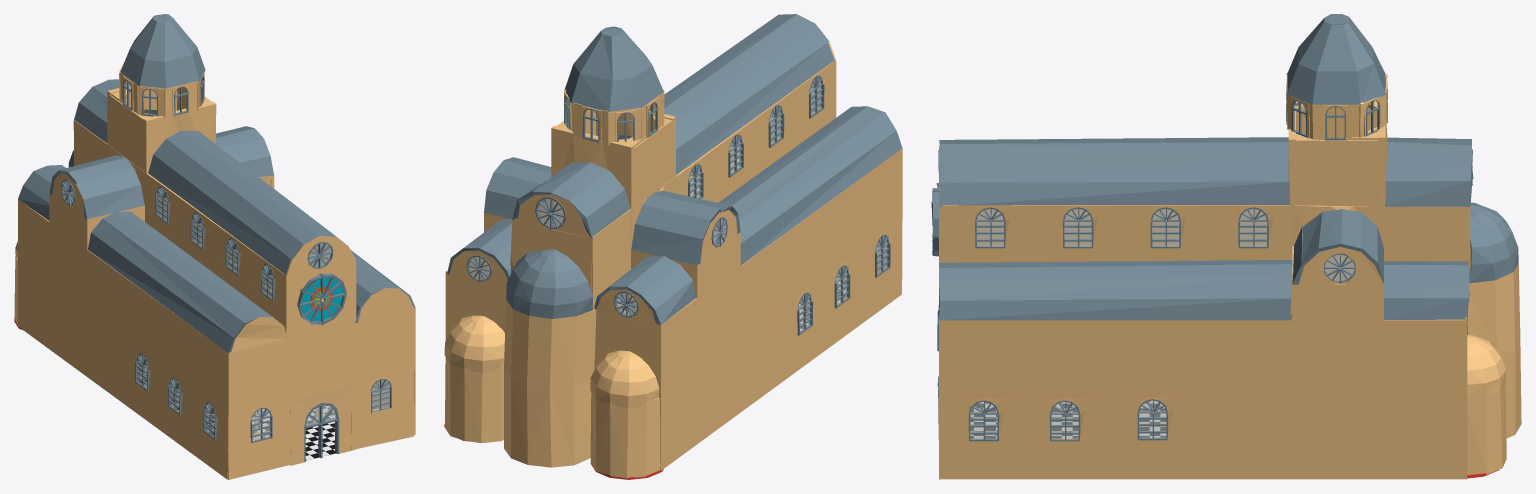
The model's file is Cathedral.glb.
3 views of the same model, side by side, from view 1: azimuth 30°, elevation 25°; view 2: azimuth 150°, elevation 25°; view 3: azimuth 270°, elevation 25° (orthographic). The views are drawn at different scales.
Parts seen in each view (by area): view 1: group2125448215, group139014362, group1028819993, group907507585, group1775246454, group116975768, group470275030, group76464888, group1762686961, group1987347754, group454827528, group222399128 (+26 smaller); view 2: group2125448215, group139014362, group1967374255, group1028819993, group116975768, group2132728173, group895037902, group470275030, group1157343340, group684302131, group1710085224, group789277311 (+28 smaller); view 3: group2107818933, group1393339195, group1028819993, group510950834, group1797121070, group2115469555, group1710085224, group2104763800, group473540176, group2108872909, group895037902, group1967374255 (+18 smaller).
Boxes of the visible parts, <box> form: group2125448215: <box>18,199,123,402</box>; group139014362: <box>18,165,272,352</box>; group1028819993: <box>148,130,335,276</box>; group907507585: <box>226,307,415,415</box>; group1775246454: <box>283,260,356,400</box>; group116975768: <box>122,275,225,414</box>; group470275030: <box>145,173,284,306</box>; group76464888: <box>227,400,290,479</box>; group1762686961: <box>351,370,414,449</box>; group1987347754: <box>290,385,355,465</box>; group454827528: <box>145,206,283,325</box>; group222399128: <box>130,14,196,61</box>; group2125448215: <box>656,237,781,470</box>; group139014362: <box>594,106,902,324</box>; group1967374255: <box>504,300,596,467</box>; group1028819993: <box>618,14,835,174</box>; group116975768: <box>780,150,899,309</box>; group2132728173: <box>590,344,663,478</box>; group895037902: <box>444,309,505,443</box>; group470275030: <box>674,61,834,198</box>; group1157343340: <box>506,249,592,318</box>; group684302131: <box>445,271,660,359</box>; group1710085224: <box>512,162,630,238</box>; group789277311: <box>551,125,634,208</box>; group2107818933: <box>1200,319,1467,479</box>; group1393339195: <box>939,260,1469,320</box>; group1028819993: <box>939,137,1290,206</box>; group510950834: <box>939,320,1204,398</box>; group1797121070: <box>943,205,1293,248</box>; group2115469555: <box>1017,398,1105,479</box>; group1710085224: <box>1385,137,1472,206</box>; group2104763800: <box>1292,247,1383,320</box>; group473540176: <box>1293,140,1381,206</box>; group2108872909: <box>945,246,1292,262</box>; group895037902: <box>1467,334,1506,474</box>; group1967374255: <box>1467,246,1521,438</box>.
Size of the model in its own units: 1.25 by 2.04 by 2.69.
